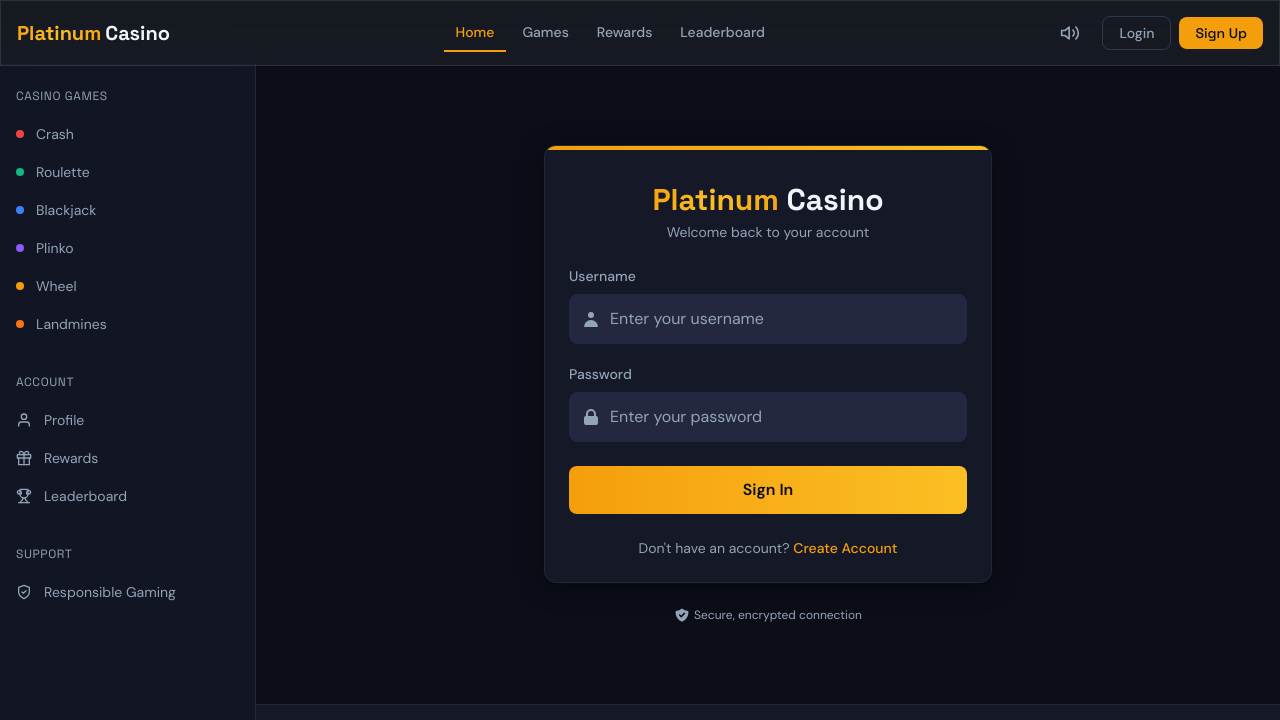
Test: LoginPage › displays an error message on failed login
Type "baduser" into the field labelled "Username" at (768, 319), box [569,294,967,344]
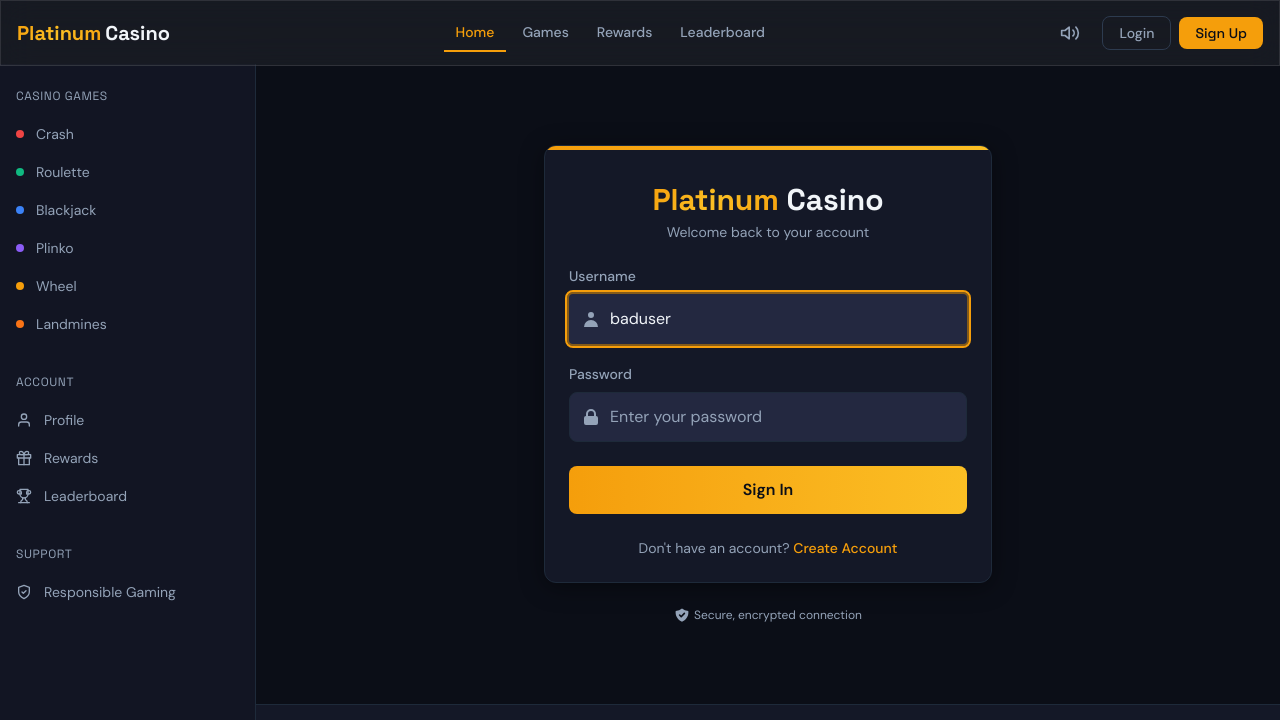
Type "badpass" into the password field labelled "Password" at (768, 417), box [569,392,967,442]
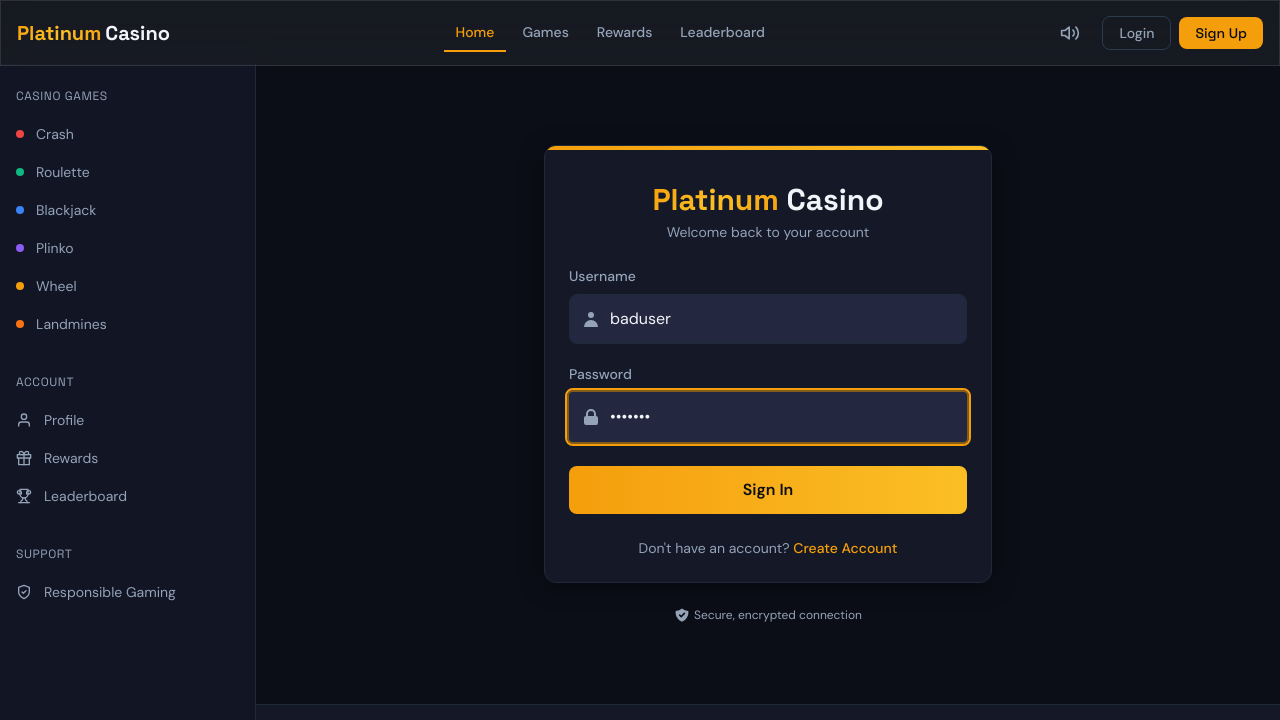
Click the button "Sign In" at (768, 490), box [569,466,967,514]
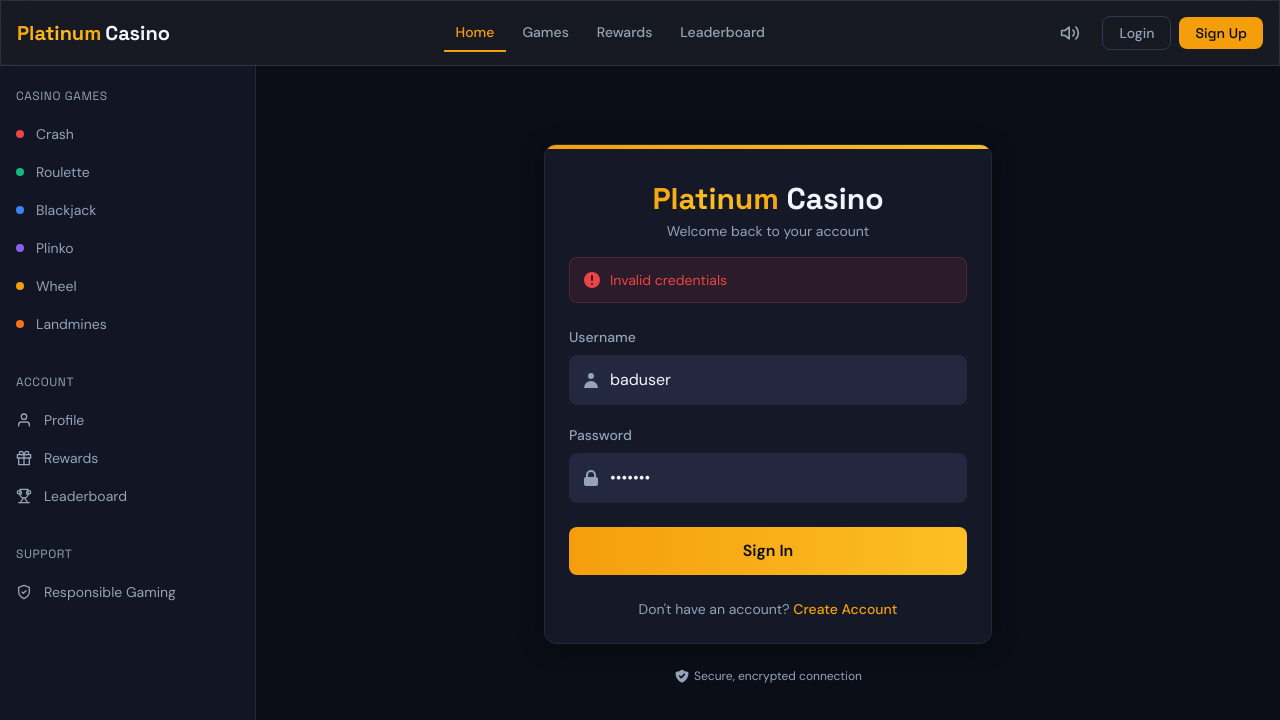
Expected: the text "Invalid credentials" is shown, [569,257,967,303]
